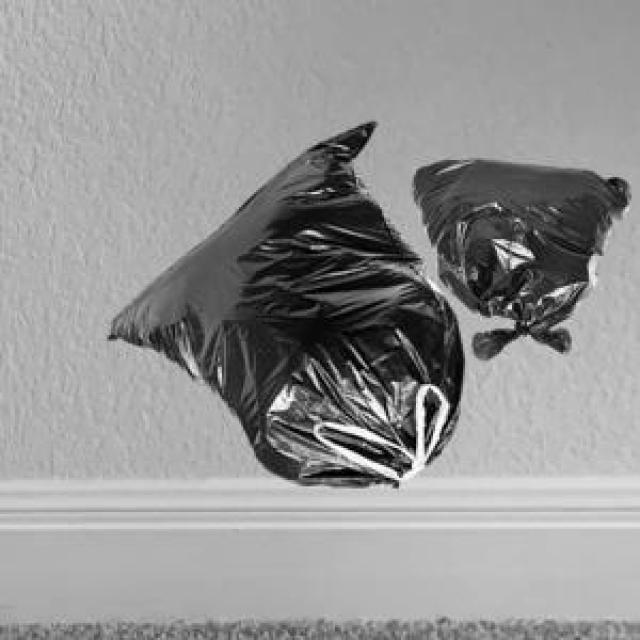miscellaneous trash: (105, 117, 459, 482), (408, 156, 625, 356)
